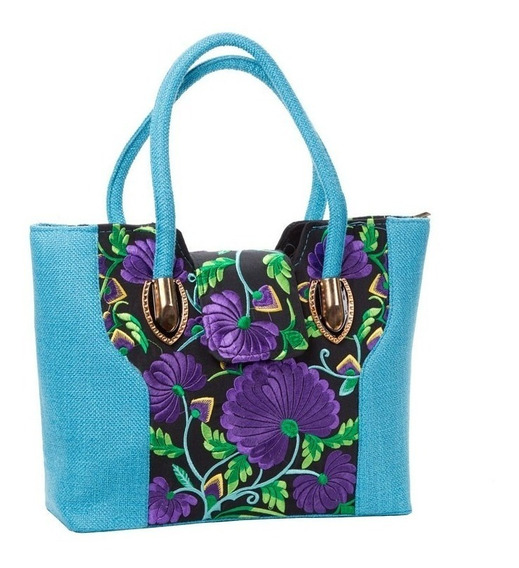cartera: (28, 32, 431, 535)
